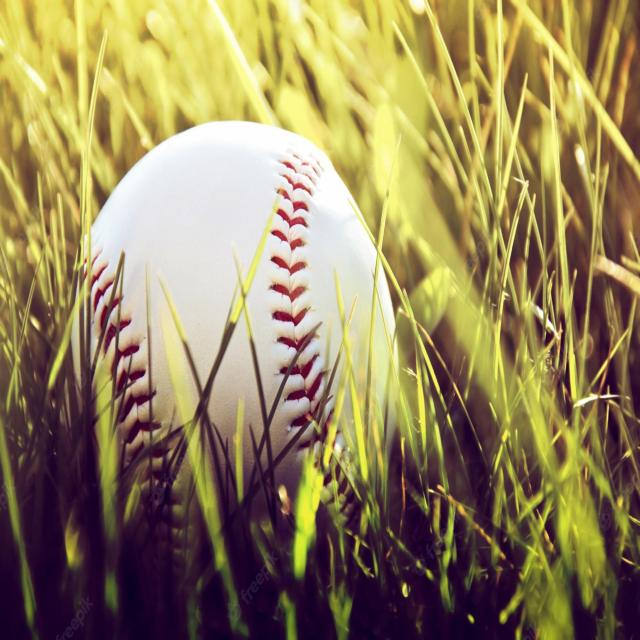baseball: (78, 119, 397, 521)
